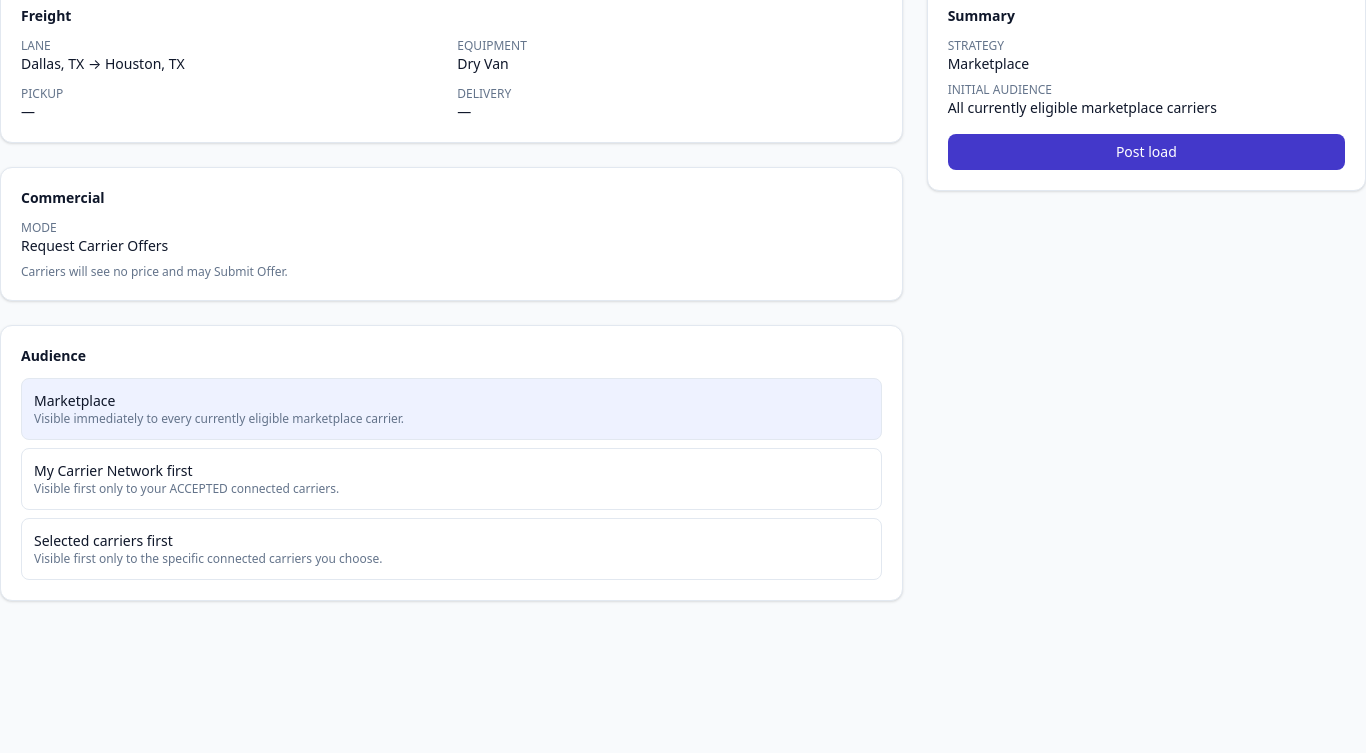
Test: ReviewPostForm › shows the exact scheduled release timestamp after picking a preset
The image size is (1366, 753).
Step 1. Click the button "My Carrier Network first" → (113, 470), box [21, 448, 882, 510]
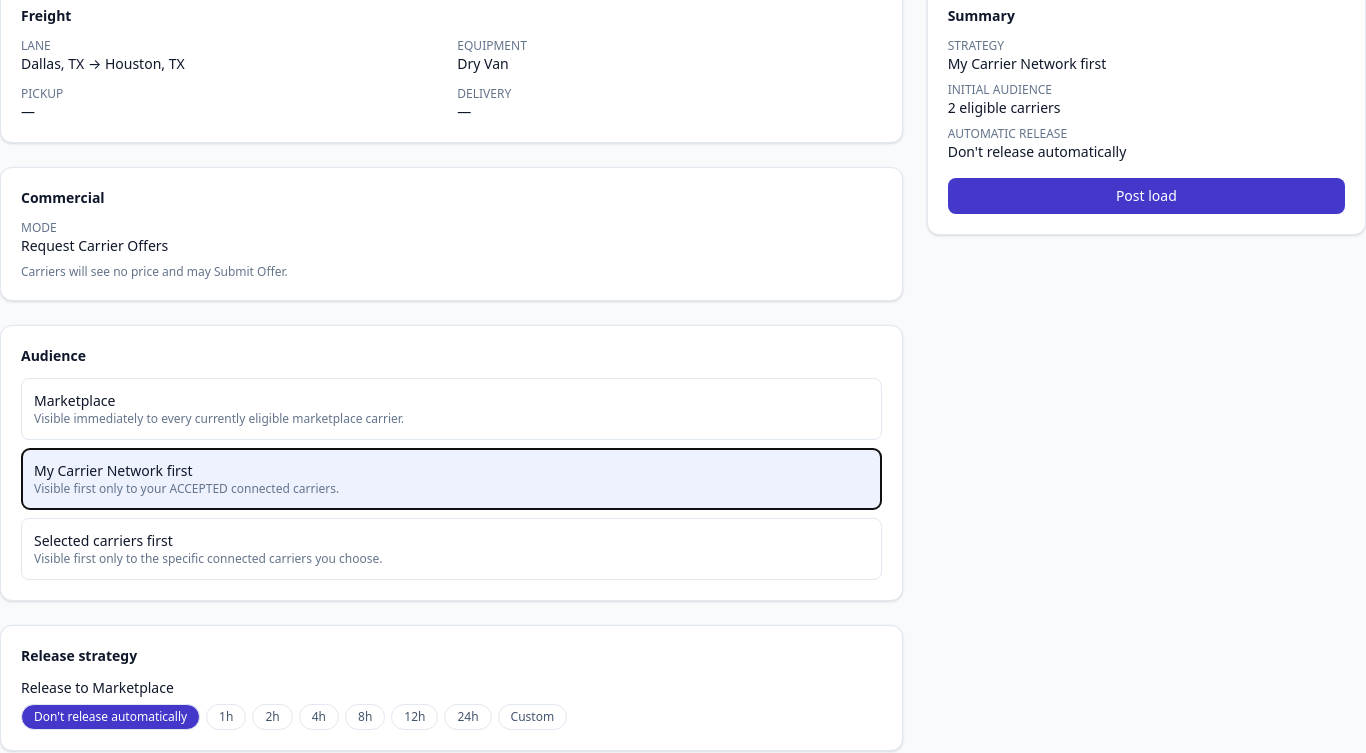
Step 2. Click the button "4h" → (319, 717), box [299, 704, 339, 730]
(page scrolled)
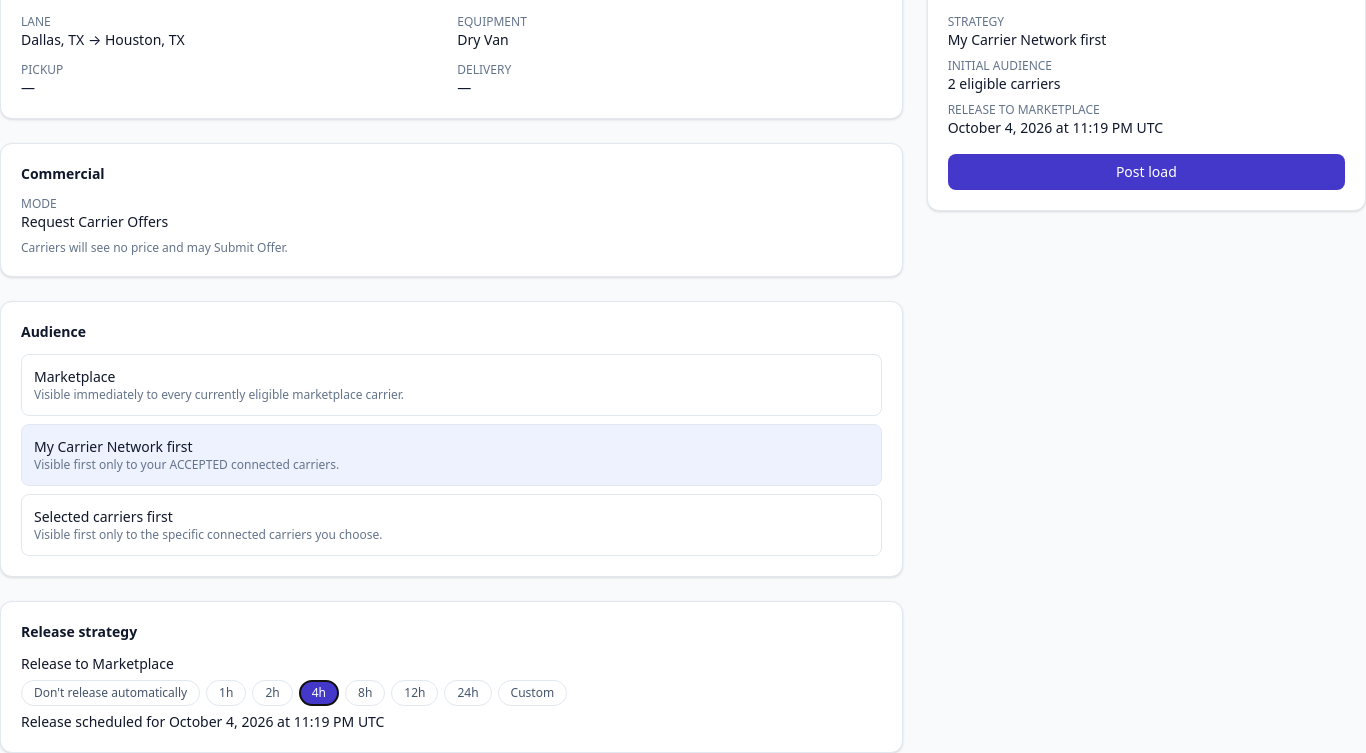
Expected: the text "Release scheduled for October 4, 2026 at 11:19 PM UTC" is shown, [21, 712, 384, 731]
